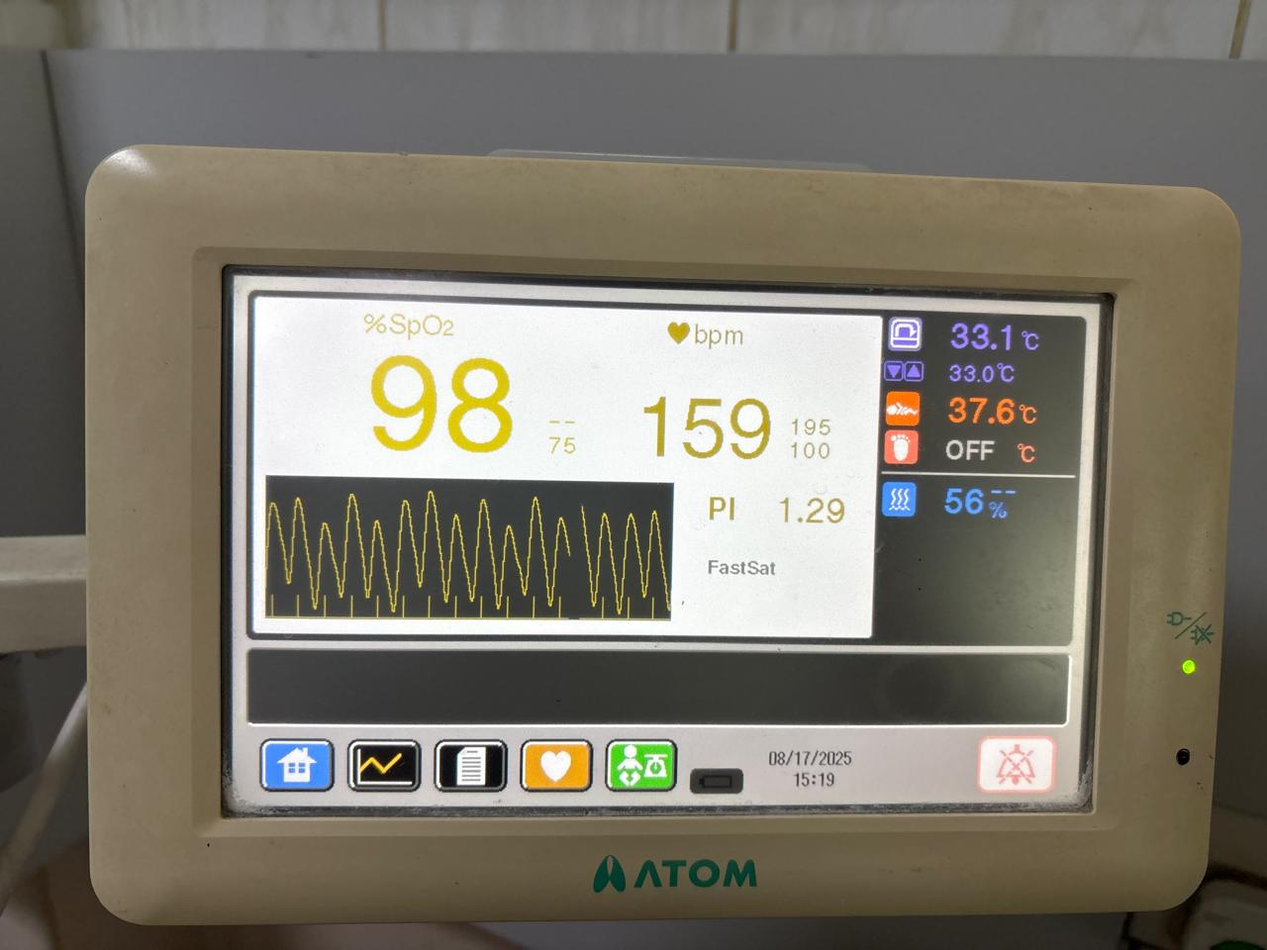air_temp_value: (932, 302, 1028, 363)
heart_rate_value: (627, 378, 782, 475)
humidity_value: (931, 475, 988, 527)
skin_temp_value: (938, 388, 1019, 435)
spo2_value: (360, 343, 535, 466)
